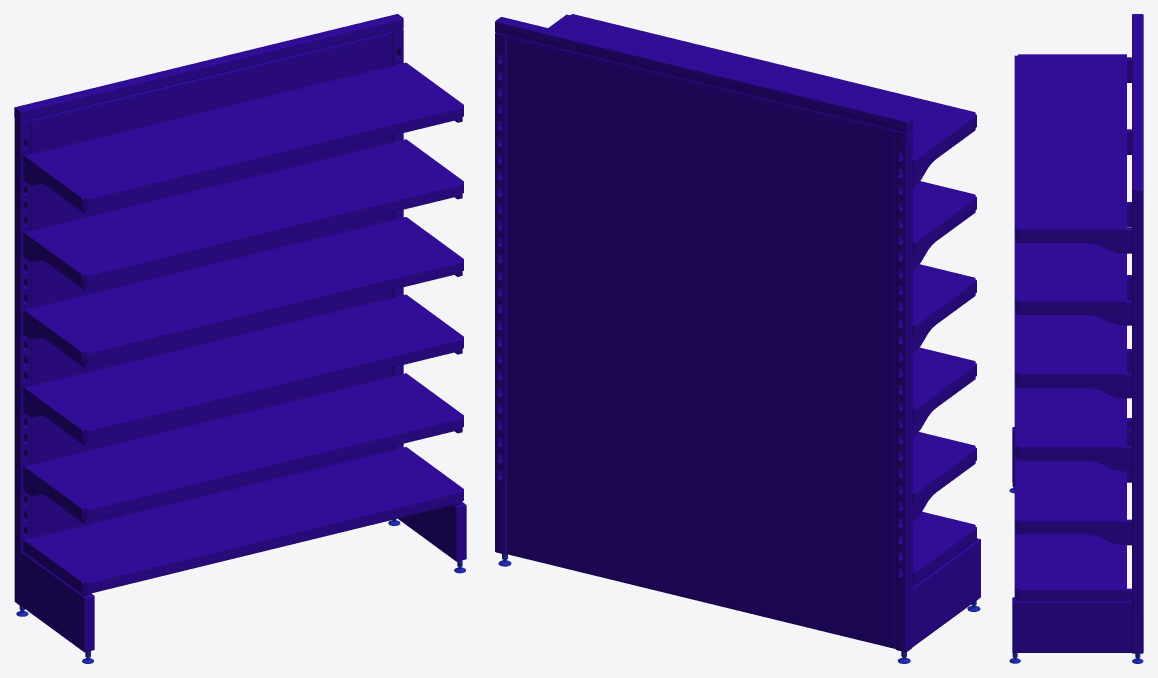
File: retail_display_10.gltf
The picture shows the model from 3 angles, left to right: view 1: azimuth 30°, elevation 25°; view 2: azimuth 150°, elevation 25°; view 3: azimuth 270°, elevation 25°; orthographic projection. The views are drawn at different scales.
Parts seen in each view (by area): view 1: board_mesh, shelf_003_mesh, shelf_005_mesh, shelf_001_mesh, shelf_002_mesh, shelf_006_mesh, shelf_004_mesh, bar_001_mesh, bar_002_mesh, bar_004_mesh, bar_005_mesh, bar_003_mesh; view 2: board_mesh, shelf_006_mesh, bar_001_mesh, bar_002_mesh, bar_003_mesh, bar_004_mesh, shelf_002_mesh, shelf_003_mesh, shelf_004_mesh, shelf_005_mesh, shelf_001_mesh; view 3: shelf_006_mesh, shelf_002_mesh, shelf_003_mesh, shelf_004_mesh, shelf_005_mesh, shelf_001_mesh, bar_005_mesh, bar_003_mesh, bar_002_mesh, arm_006_mesh, arm_008_mesh, arm_004_mesh (+4 smaller).
Part boxes in pixels (x1,y1,x2,y2): board_mesh: (30, 31, 392, 538); shelf_003_mesh: (24, 294, 463, 441); shelf_005_mesh: (24, 139, 463, 286); shelf_001_mesh: (24, 447, 463, 594); shelf_002_mesh: (24, 373, 463, 520); shelf_006_mesh: (24, 62, 463, 209); shelf_004_mesh: (24, 217, 463, 364); bar_001_mesh: (14, 118, 30, 605); bar_002_mesh: (14, 14, 403, 121); bar_004_mesh: (20, 551, 94, 652); bar_005_mesh: (398, 502, 466, 561); bar_003_mesh: (392, 29, 403, 449); board_mesh: (507, 36, 895, 648); shelf_006_mesh: (548, 14, 976, 172); bar_001_mesh: (895, 129, 912, 652); bar_002_mesh: (495, 17, 912, 132); bar_003_mesh: (495, 32, 507, 554); bar_004_mesh: (912, 538, 980, 646); shelf_002_mesh: (912, 432, 976, 505); shelf_003_mesh: (912, 347, 976, 421); shelf_004_mesh: (912, 264, 976, 337); shelf_005_mesh: (912, 181, 976, 254); shelf_001_mesh: (912, 511, 976, 584); shelf_006_mesh: (1014, 54, 1126, 239); shelf_002_mesh: (1014, 456, 1126, 531); shelf_003_mesh: (1014, 383, 1126, 457); shelf_004_mesh: (1014, 310, 1126, 384); shelf_005_mesh: (1014, 238, 1126, 311); shelf_001_mesh: (1014, 530, 1126, 600); bar_005_mesh: (1012, 597, 1131, 652); bar_003_mesh: (1132, 198, 1143, 653); bar_002_mesh: (1132, 14, 1143, 199); arm_006_mesh: (1016, 445, 1131, 471); arm_008_mesh: (1016, 373, 1131, 398); arm_004_mesh: (1016, 519, 1131, 545).
Size of the model in its own units: 161 by 203 by 51.96.
